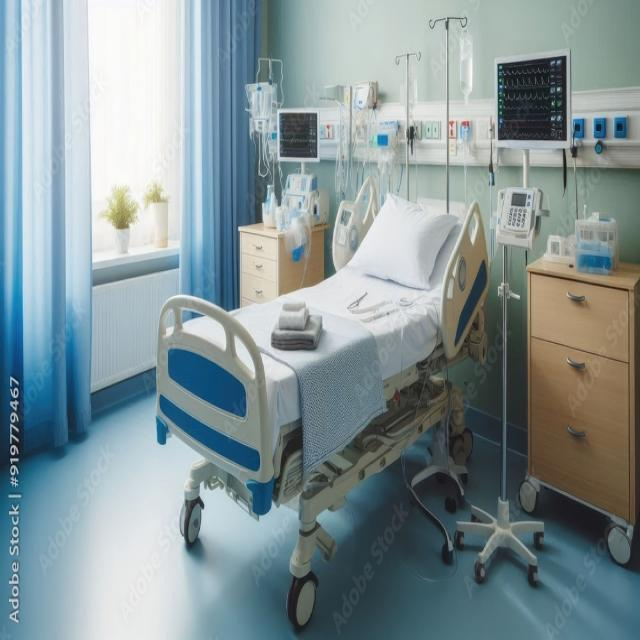Monitor: (491, 51, 575, 156), (272, 98, 324, 171)
Saline Stand: (425, 7, 483, 255), (377, 35, 432, 214), (239, 59, 290, 226)
bed: (155, 188, 490, 630)
tools_table: (521, 217, 640, 568)
